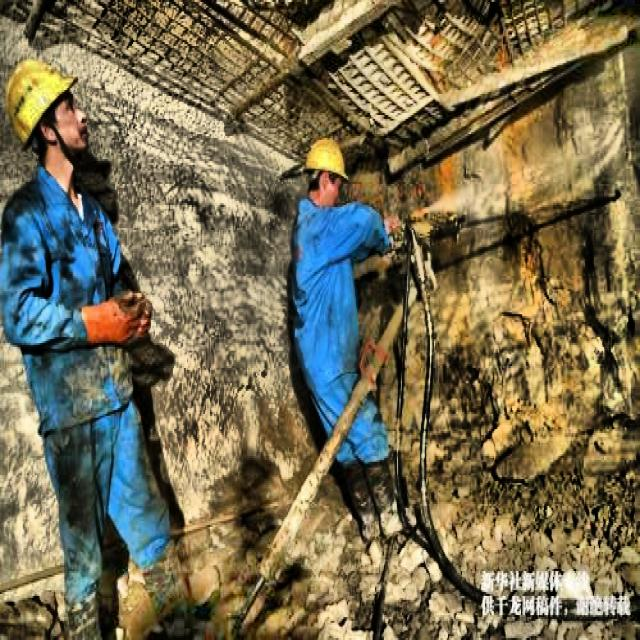helmet: (7, 60, 94, 176), (301, 134, 349, 207)
